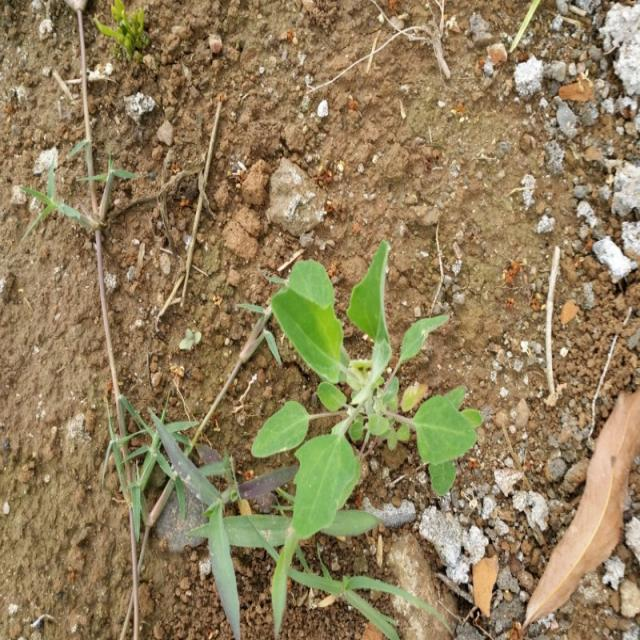ca: (268, 244, 483, 533)
